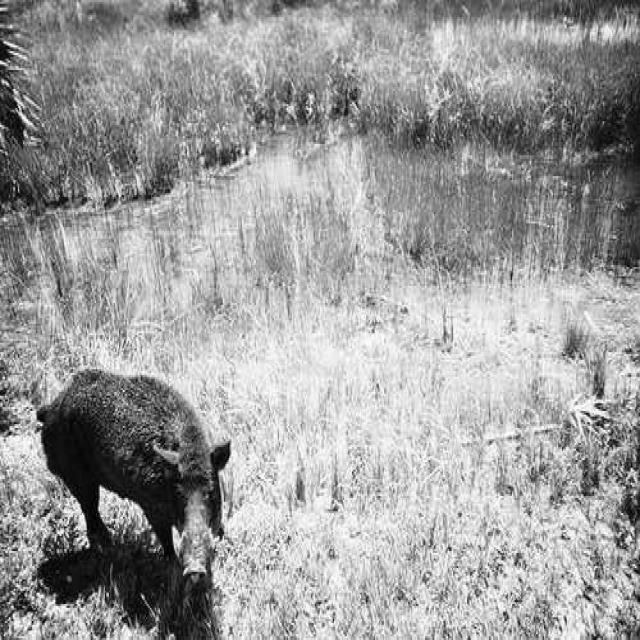boar: (37, 371, 230, 582)
